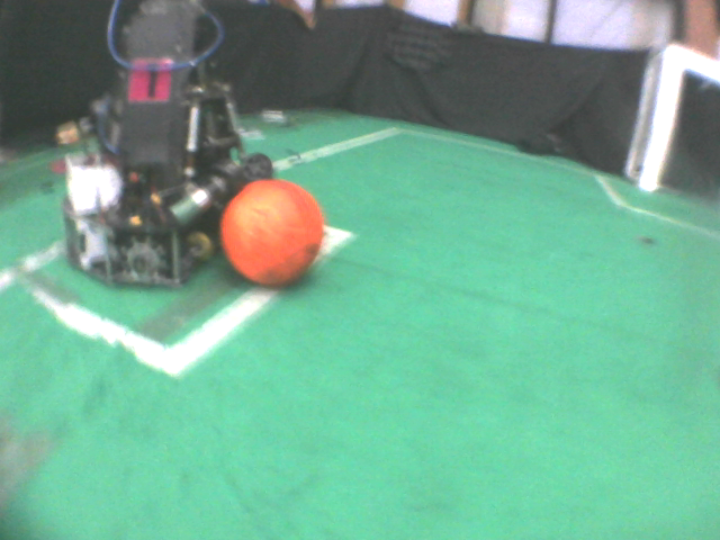bola: (219, 177, 335, 296)
